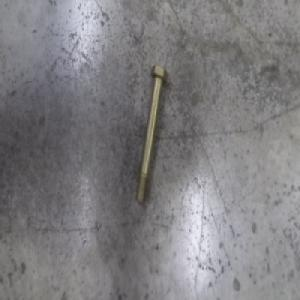Bolt: (135, 63, 168, 204)
